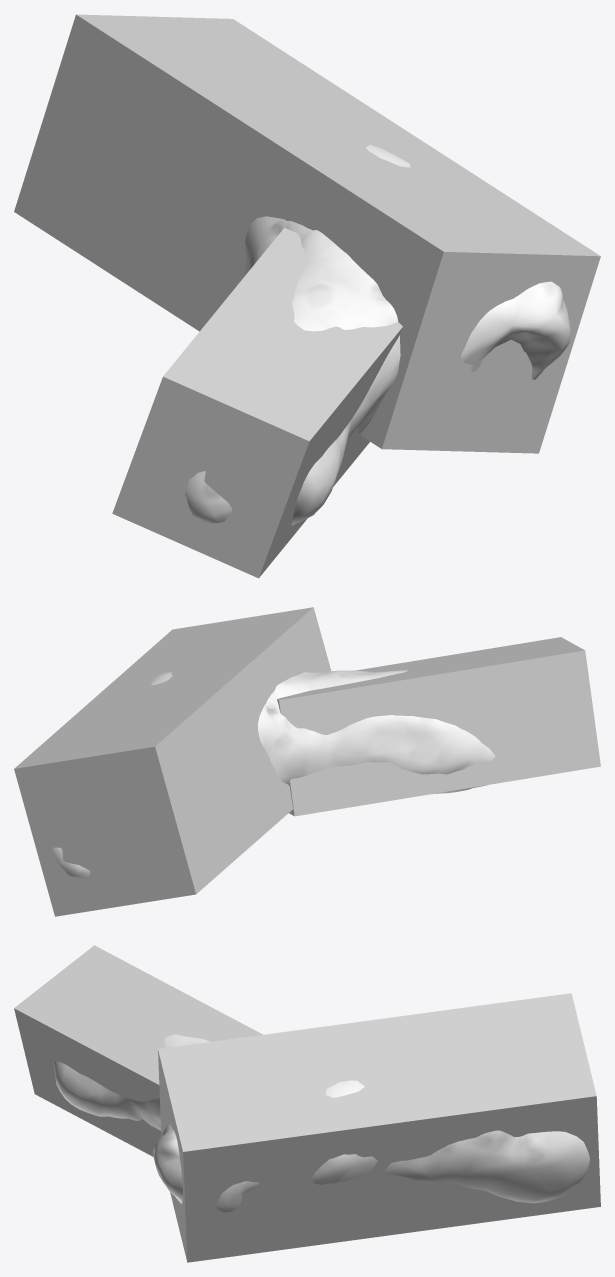
The model's file is Coral_14.glb.
The picture shows the model from 3 angles, top to bottom: view 1: azimuth 30°, elevation 25°; view 2: azimuth 150°, elevation 25°; view 3: azimuth 270°, elevation 25°; orthographic projection. The views are drawn at different scales.
Parts seen in each view (by area): view 1: Cube.038, Cube.039, A03612_Koralle14.001; view 2: Cube.038, Cube.039, A03612_Koralle14.001; view 3: Cube.038, Cube.039, A03612_Koralle14.001.
Part boxes in pixels (left/top/right/bottom): Cube.038: left=14, top=14, right=600, bottom=453; Cube.039: left=112, top=227, right=402, bottom=578; A03612_Koralle14.001: left=185, top=144, right=570, bottom=525; Cube.038: left=14, top=607, right=331, bottom=916; Cube.039: left=277, top=637, right=600, bottom=816; A03612_Koralle14.001: left=52, top=670, right=495, bottom=878; Cube.038: left=158, top=993, right=600, bottom=1262; Cube.039: left=14, top=945, right=262, bottom=1156; A03612_Koralle14.001: left=53, top=1034, right=589, bottom=1212.
Bounding box in the file's own units: 0.2301 × 0.1177 × 0.3078.
1 material, 1 textured.
